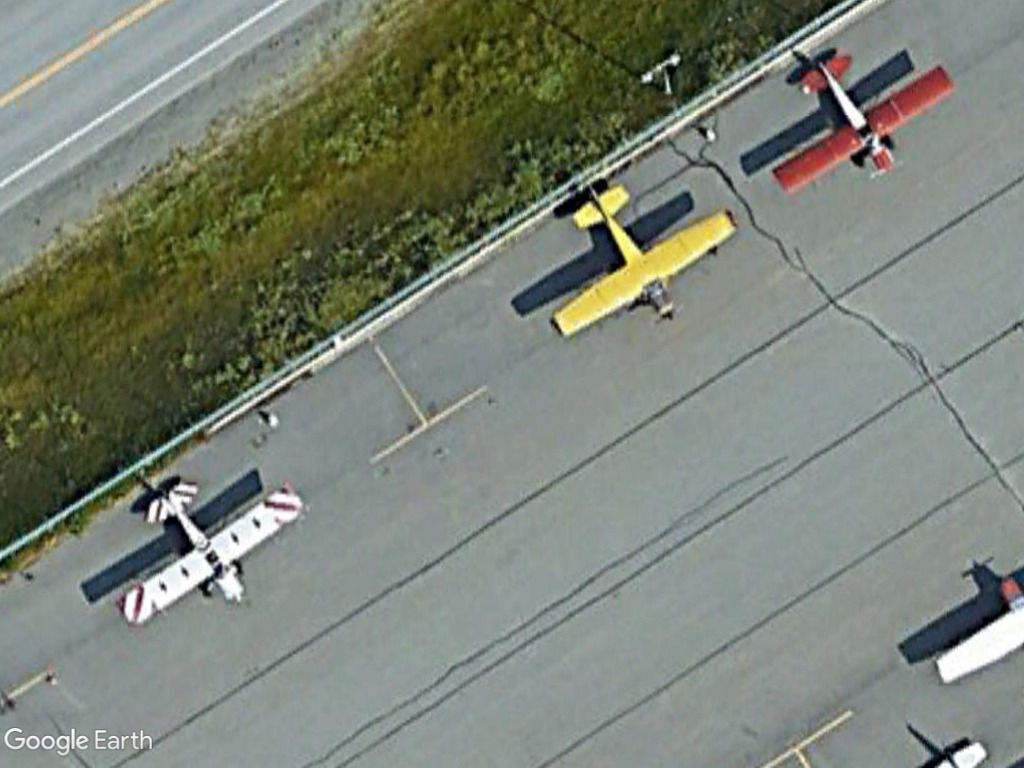trainer: (110, 469, 311, 636), (544, 181, 740, 347), (767, 45, 954, 200)
